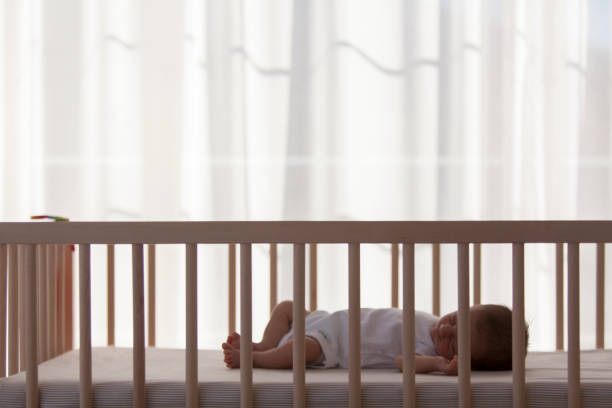baby: (414, 311, 457, 374)
crib: (0, 221, 611, 406)
